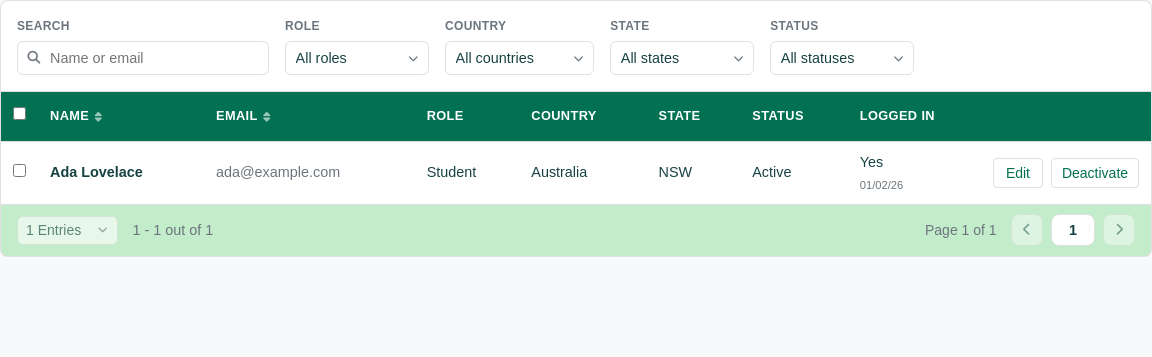
Test case: AdminUsersView › shows the bulk bar once a row is selected
The width and height of the screenshot is (1152, 357).
Click the checkbox named "Select this page" at (20, 114), box 13,107 -> 26,120
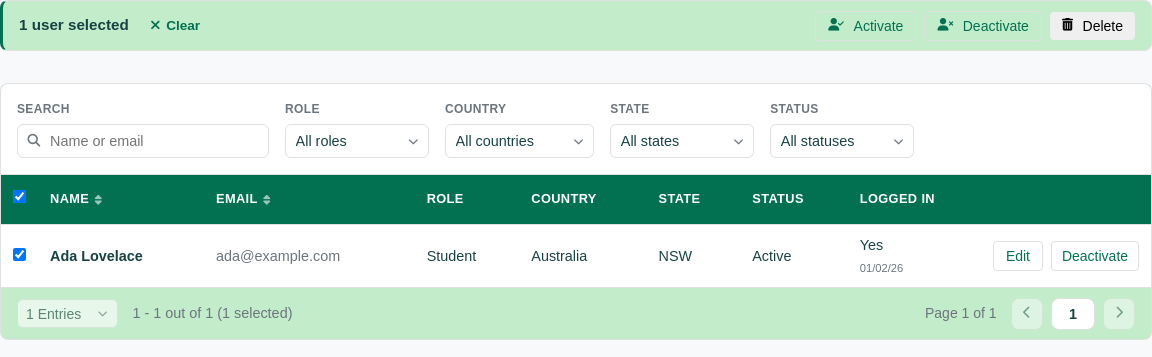
Now the element showing "1 user selected Clear Activate Deactivate Delete" is shown, box 0,0 -> 1151,51
Now the text "1 user selected" is shown, box 19,13 -> 129,38
